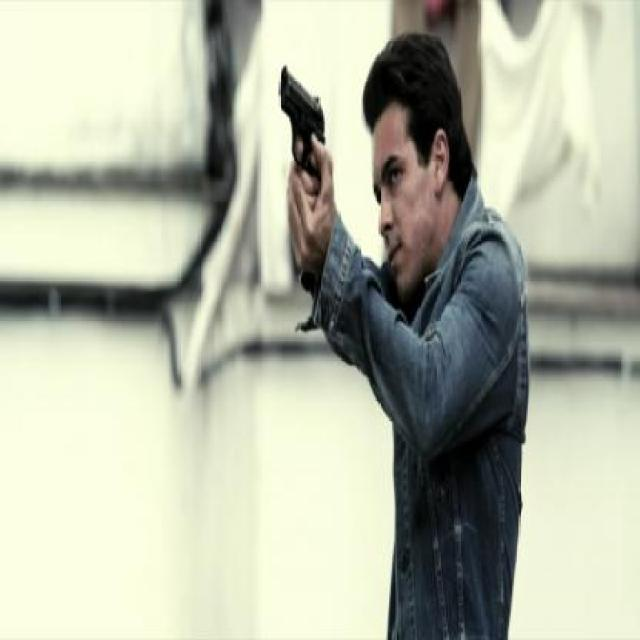guns: (270, 20, 335, 195)
